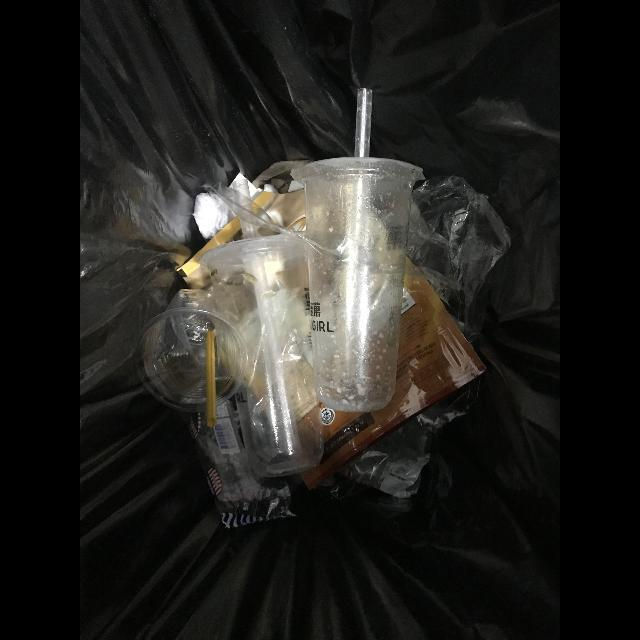paper: (192, 193, 237, 239)
plastic: (290, 157, 424, 414), (199, 235, 324, 476), (406, 174, 512, 325)
wrapper: (302, 257, 486, 491), (188, 394, 297, 530)
